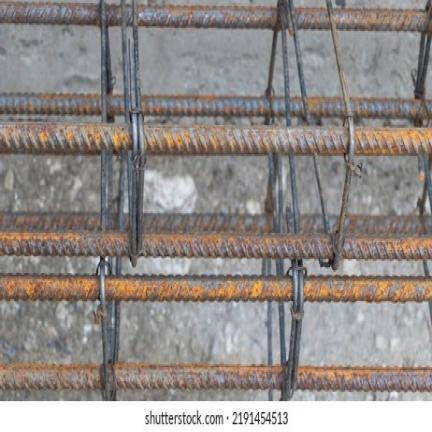karat: (109, 365, 284, 388)
